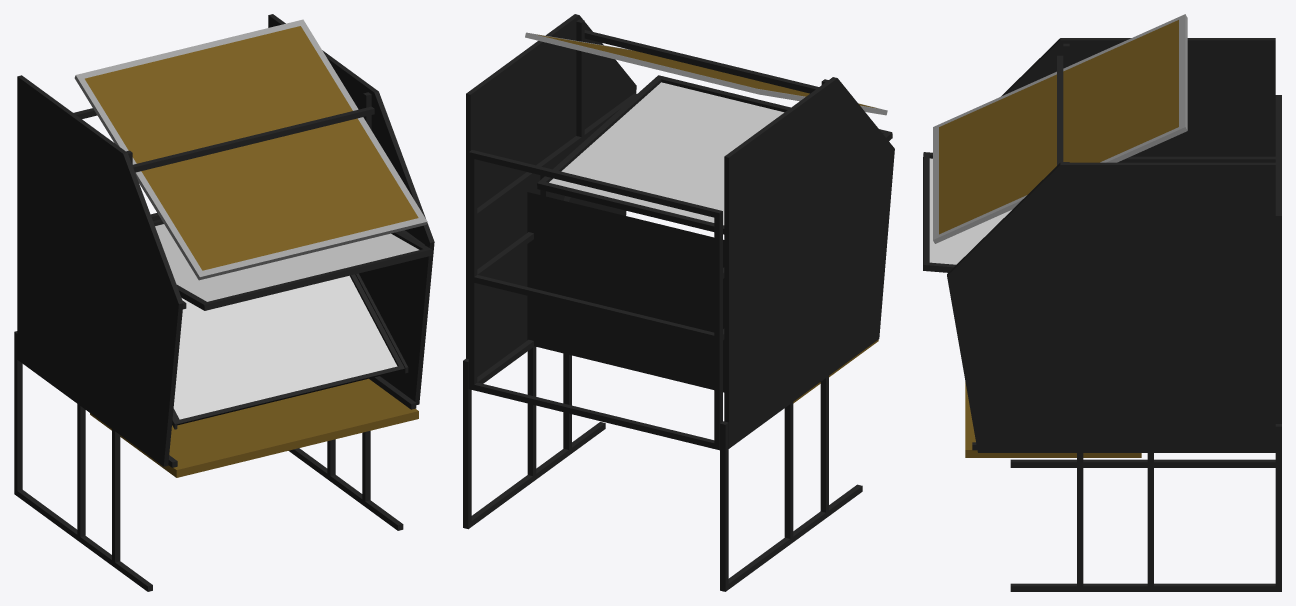
The model's file is PARIS.fbx.
3 views of the same model, side by side, from view 1: azimuth 30°, elevation 25°; view 2: azimuth 150°, elevation 25°; view 3: azimuth 270°, elevation 25° (orthographic). The views are drawn at different scales.
Visible parts, largest first — view 1: PARIS-Mirror, PARIS-Cover, PARIS-HalfMirror, PARIS-Table, PARIS-HalfMirror2, PARIS-LegSupport, PARIS-MainStructure; view 2: PARIS-Cover, PARIS-HalfMirror2, PARIS-MainStructure, PARIS-LegSupport, PARIS-Mirror; view 3: PARIS-Cover, PARIS-Mirror, PARIS-LegSupport, PARIS-MainStructure, PARIS-HalfMirror2, PARIS-Table.
Part boxes in pixels (<box>): PARIS-Mirror: <box>74,19,427,280</box>; PARIS-Cover: <box>17,14,434,466</box>; PARIS-HalfMirror: <box>173,274,404,425</box>; PARIS-Table: <box>90,378,418,477</box>; PARIS-HalfMirror2: <box>153,219,432,310</box>; PARIS-LegSupport: <box>14,331,403,591</box>; PARIS-MainStructure: <box>73,92,424,467</box>; PARIS-Cover: <box>466,14,894,448</box>; PARIS-HalfMirror2: <box>537,75,892,234</box>; PARIS-MainStructure: <box>468,19,828,450</box>; PARIS-LegSupport: <box>463,346,862,591</box>; PARIS-Mirror: <box>525,32,887,115</box>; PARIS-Cover: <box>947,38,1275,452</box>; PARIS-Mirror: <box>933,14,1187,243</box>; PARIS-LegSupport: <box>1010,424,1281,591</box>; PARIS-MainStructure: <box>972,43,1281,450</box>; PARIS-HalfMirror2: <box>923,152,1011,272</box>; PARIS-Table: <box>965,382,1141,457</box>.
Size of the model in its own units: 1.93 by 3.26 by 2.31.
